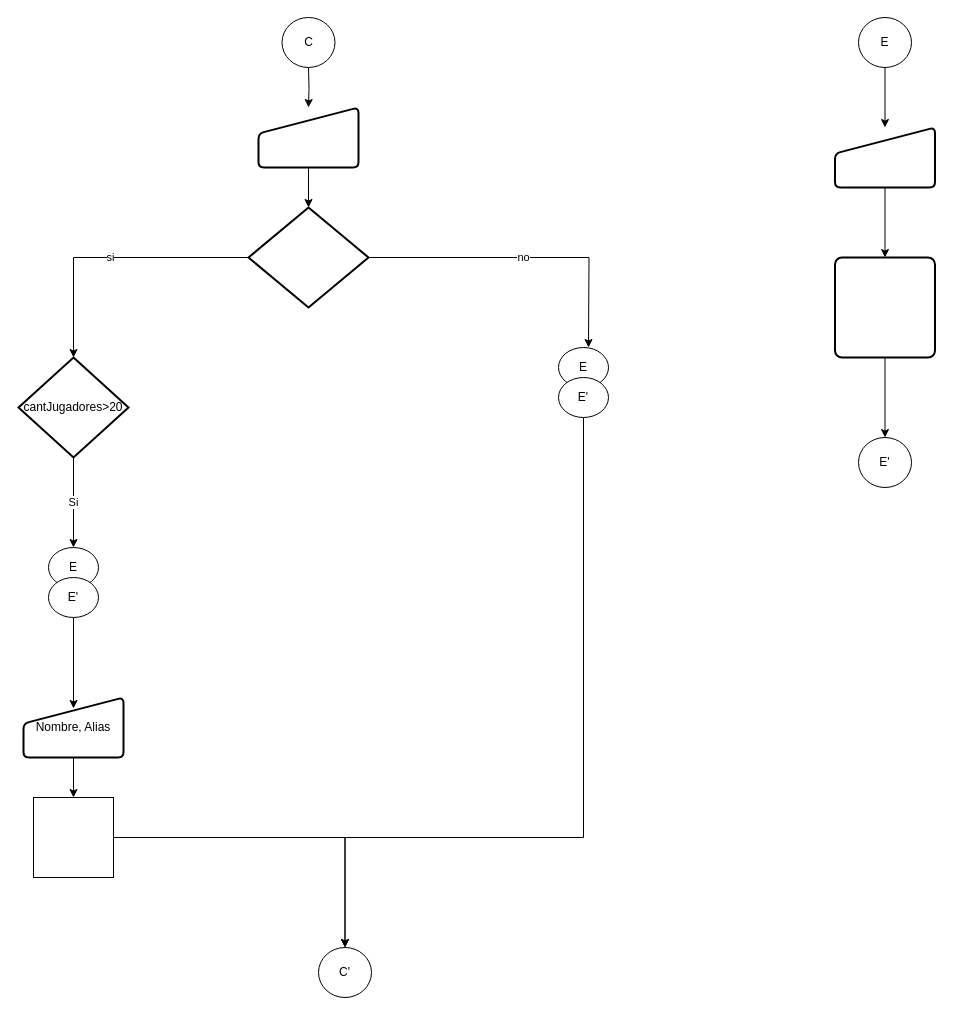
The diagram is 953 pixels wide and 1015 high, and some of its shapes have lost their labels. Here are the shapes that lost their labels. From the top down, the centre of each, then its label:
At point 308,137: "subOperacion".
At point 885,157: "alias".
At point 308,257: "subOperacion == 1".
At point 885,307: "Eliminar Nombre puntaje, partidas jugadas, codigo y alias de alias".
At point 73,837: "Crear Jugador con nombre, alias, codigo".
